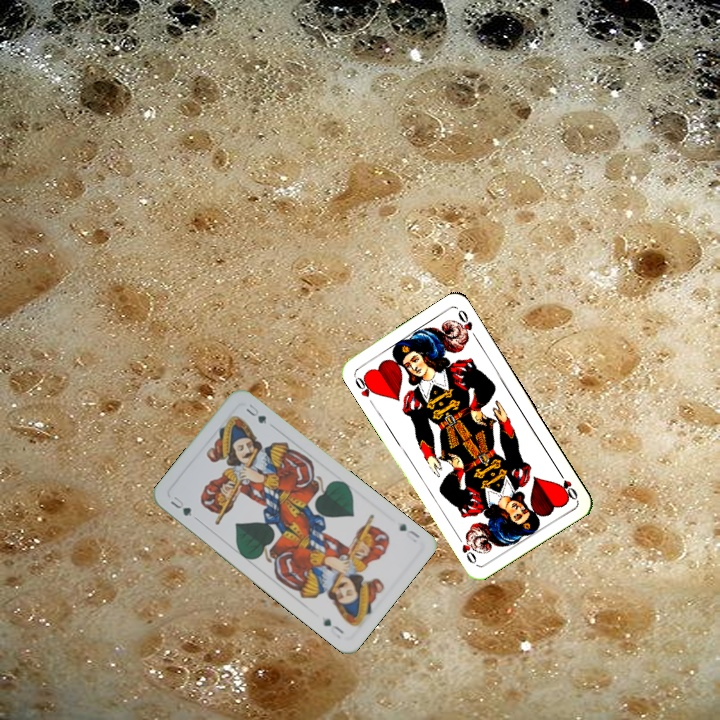GU: (166, 492, 200, 523), (395, 519, 422, 541)
HO: (553, 466, 580, 503), (350, 371, 379, 400)
